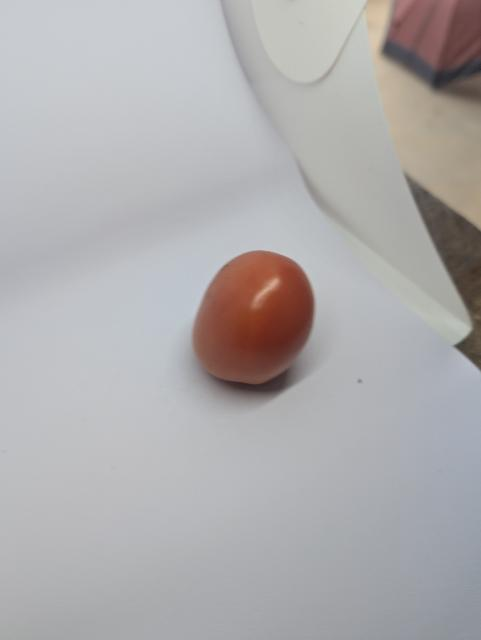red: (191, 249, 317, 391)
